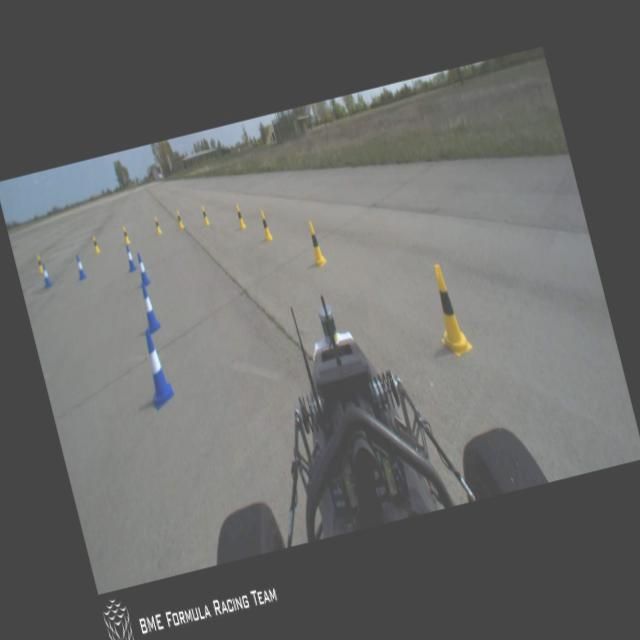blue_cone: (136, 326, 177, 410), (136, 280, 161, 334), (132, 251, 150, 287), (72, 252, 86, 281), (123, 244, 137, 272), (38, 260, 52, 288)
yellow_cone: (424, 260, 474, 358), (304, 220, 326, 268), (257, 207, 273, 242), (233, 202, 246, 230), (199, 204, 210, 226), (34, 253, 44, 274), (152, 213, 162, 234), (174, 209, 184, 230), (90, 235, 100, 254), (122, 226, 130, 245)
